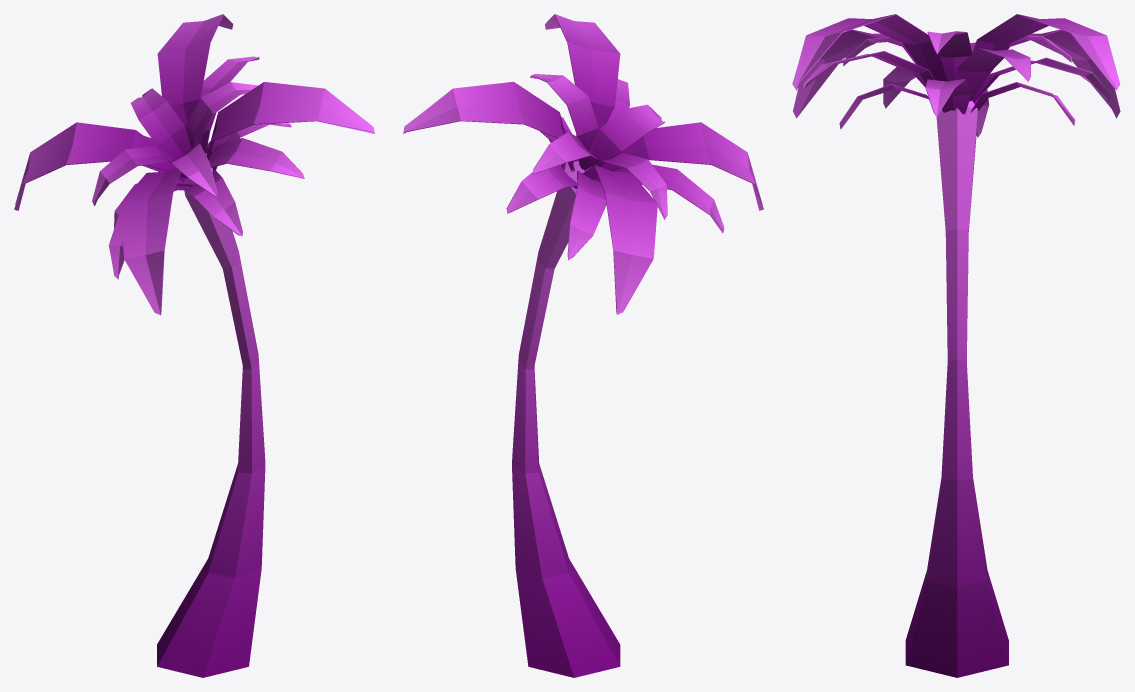
File: miami_palm_002.FBX
3 renders of one model, left to right at view 1: azimuth 30°, elevation 25°; view 2: azimuth 150°, elevation 25°; view 3: azimuth 270°, elevation 25°, orthographic. The views are drawn at different scales.
Visible parts, largest first — view 1: palm 001; view 2: palm 001; view 3: palm 001.
Boxes of the visible parts, box(x1,y1,x2,y2) form: palm 001: box(14, 14, 374, 677); palm 001: box(403, 14, 763, 677); palm 001: box(792, 14, 1120, 677).
Bounding box in the file's own units: 131 × 319 × 144.
